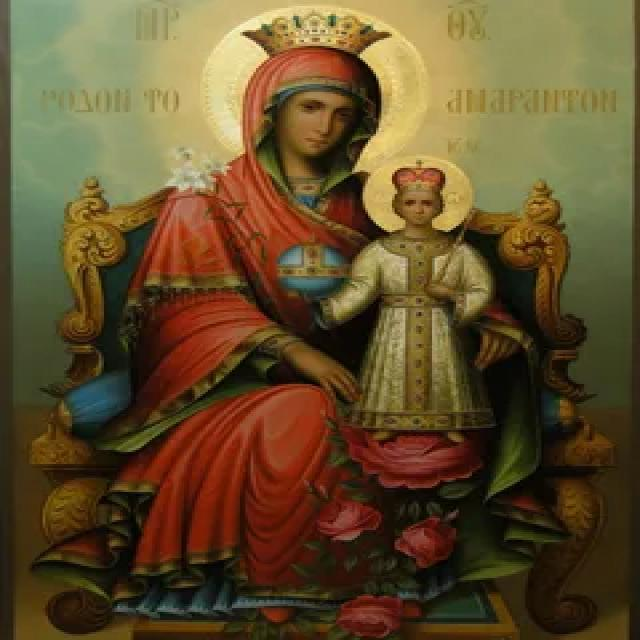mother of god: (78, 0, 545, 640)
